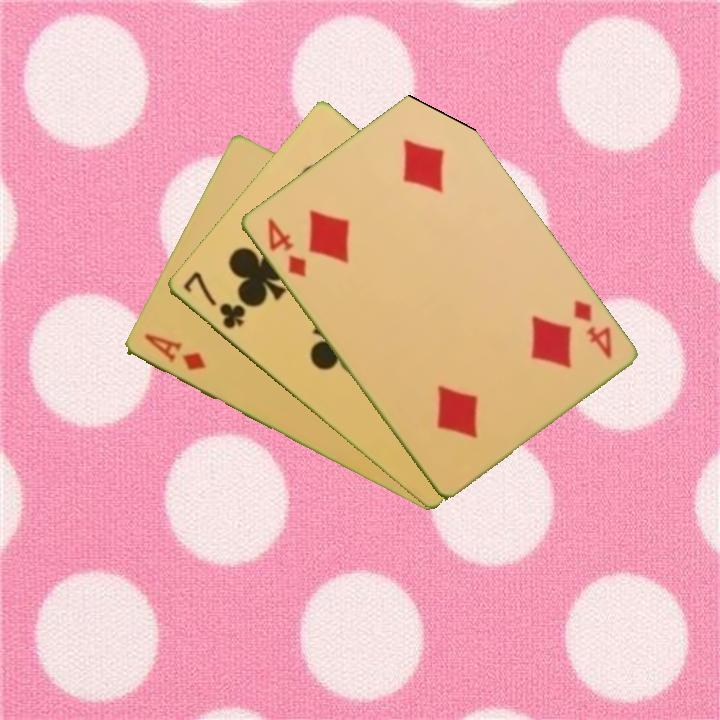4d: (263, 214, 309, 280), (569, 296, 615, 362)
7c: (179, 268, 248, 333)
Ad: (140, 330, 208, 374)
